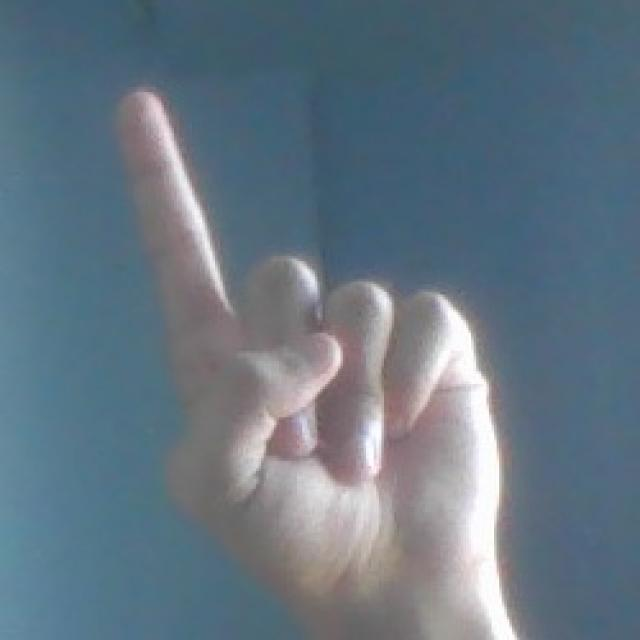Numeric-1: (110, 89, 504, 566)
